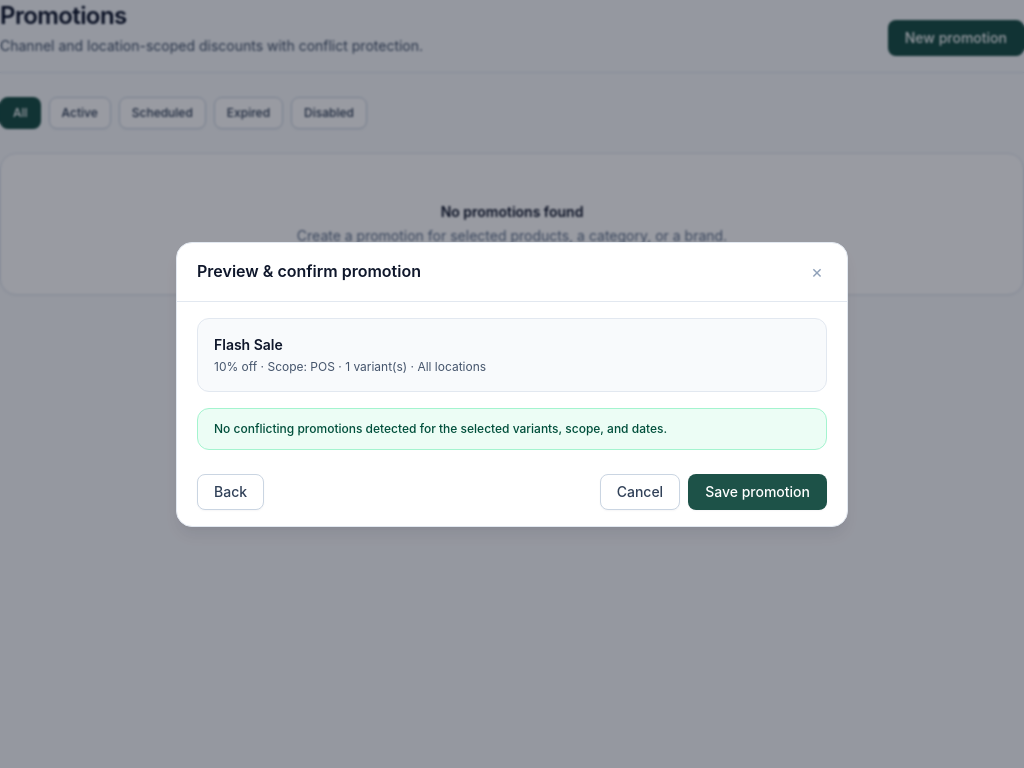
Test: Phase 2 screens › shows the conflicting promotions the backend names when a promotion is refused
The width and height of the screenshot is (1024, 768).
Earlier steps of the test are not shown.
Click the button "Save promotion": {"x": 758, "y": 492} [688,474,827,510]
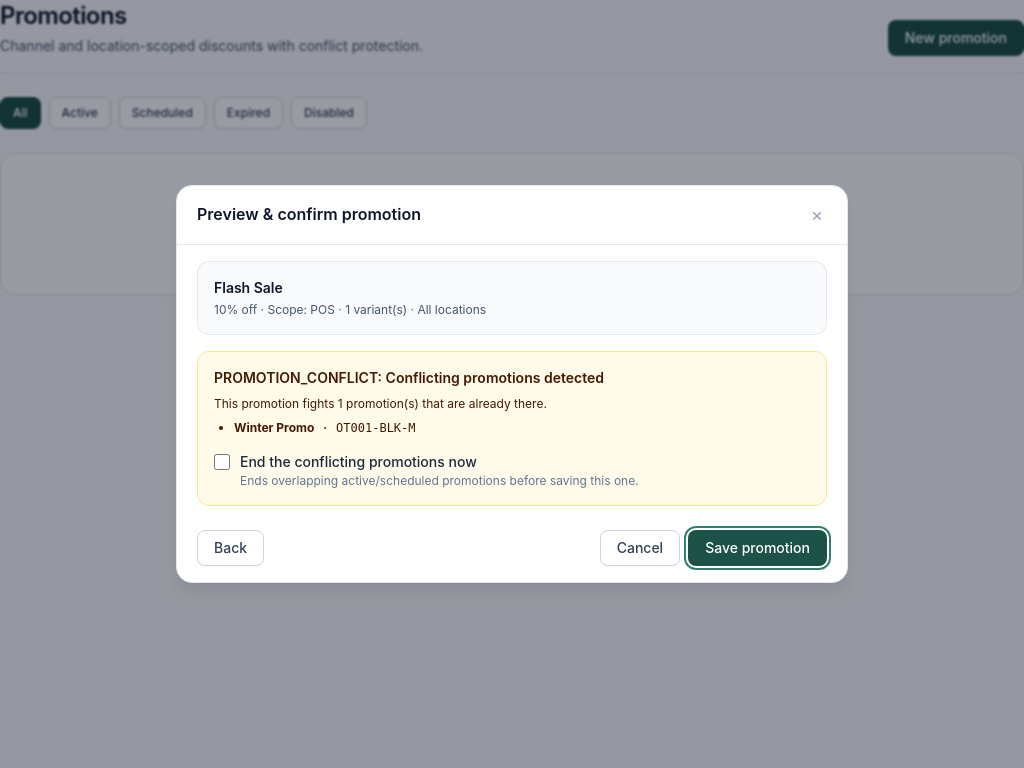
Expected: the message shows "Winter Promo", [234,420,314,435]
Expected: the message shows "OT001-BLK-M", [336,421,416,435]
